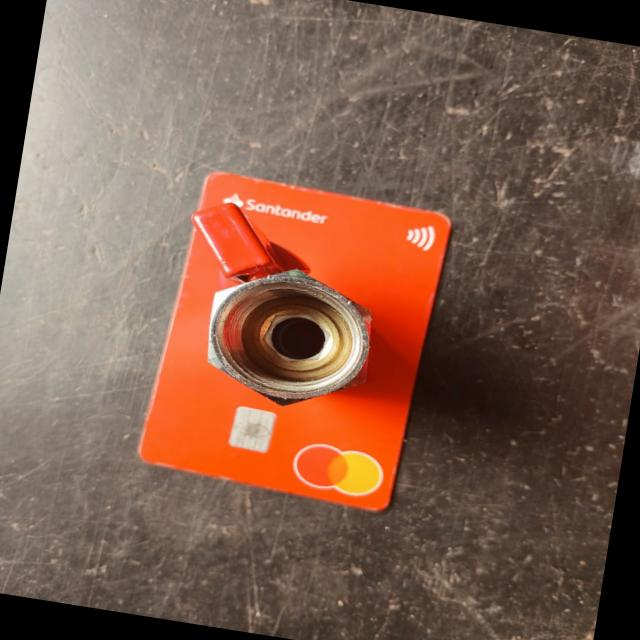cartao: (136, 168, 453, 516)
rosca_interna: (198, 256, 384, 419)
